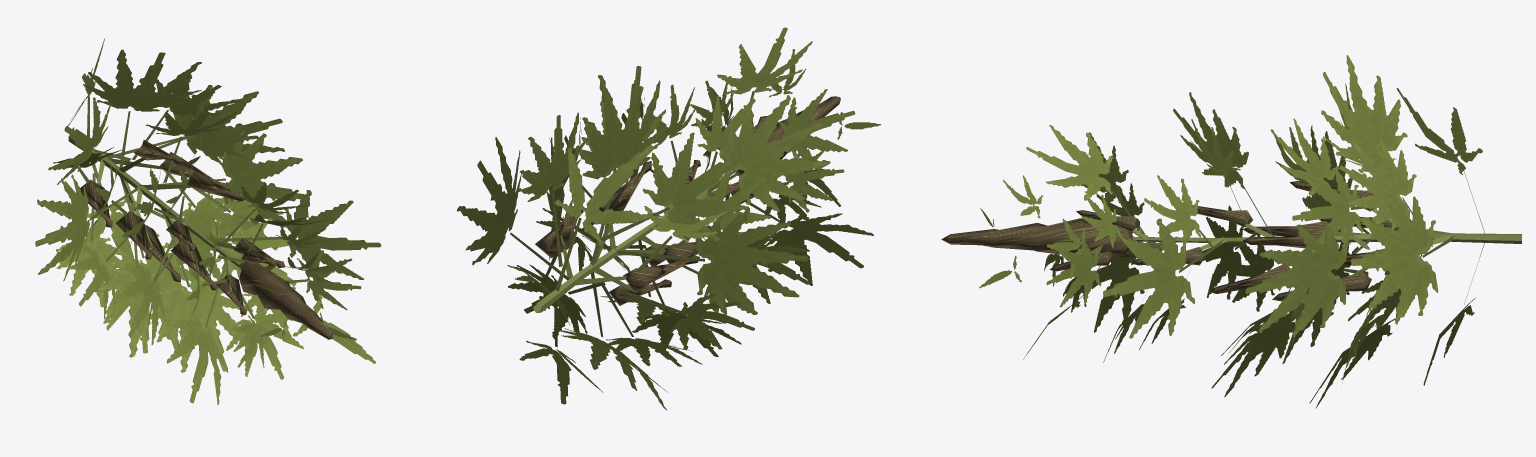
File: p_dark_landrace_flowering_c1_cards.obj
3 views of the same model, side by side, from view 1: azimuth 30°, elevation 25°; view 2: azimuth 150°, elevation 25°; view 3: azimuth 270°, elevation 25° (orthographic). The views are drawn at different scales.
Bounding box in the file's own units: 1.51 × 1.58 × 2.12.
Materials: 1 (1 with a texture image).
